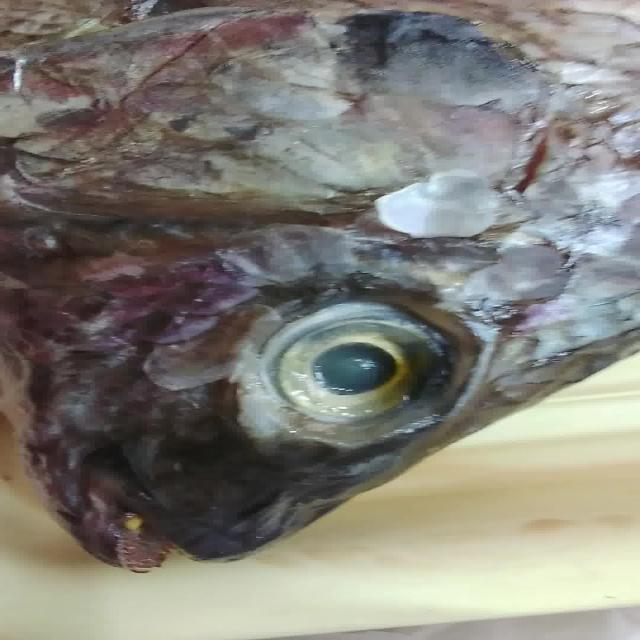Non-Fresh: (247, 275, 500, 469)
